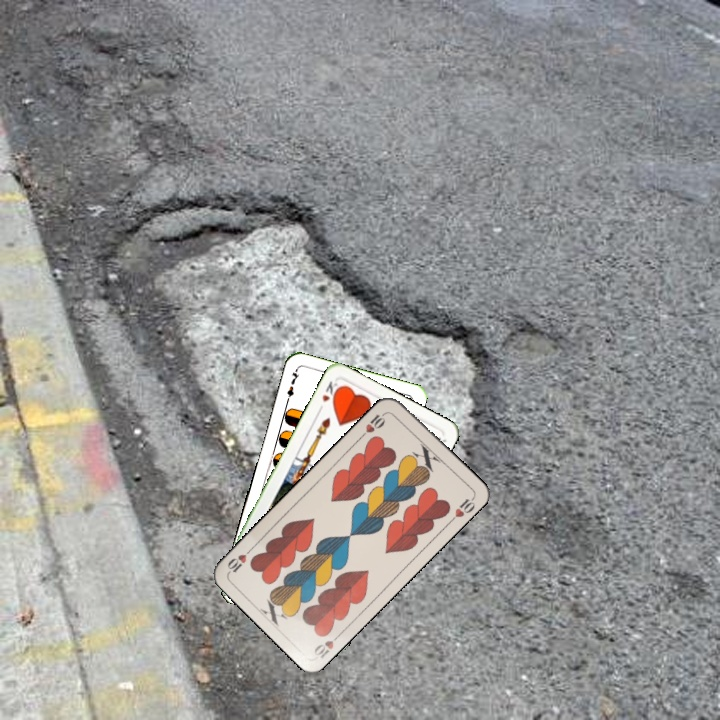E7: (282, 366, 302, 406)
H10: (310, 628, 344, 661), (357, 408, 390, 440)
HK: (314, 377, 343, 415)
